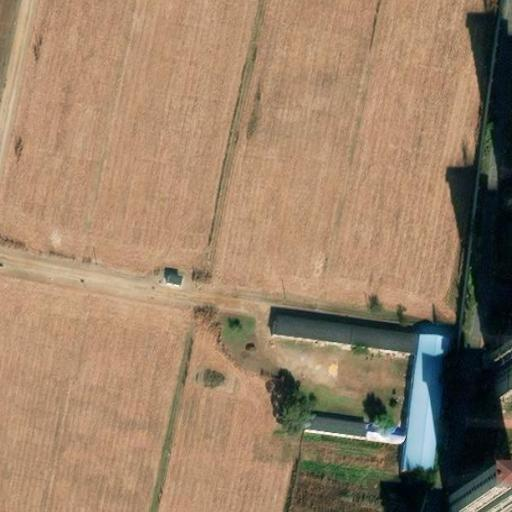building: (401, 331, 454, 472), (268, 310, 420, 356), (303, 409, 365, 438), (450, 491, 512, 512), (362, 425, 406, 444), (496, 341, 512, 386)
